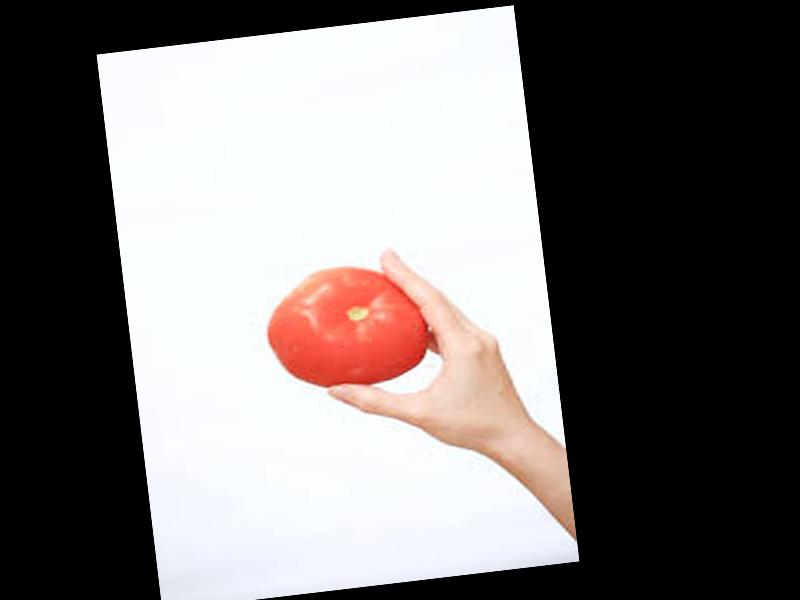Tomato: (261, 257, 429, 395)
